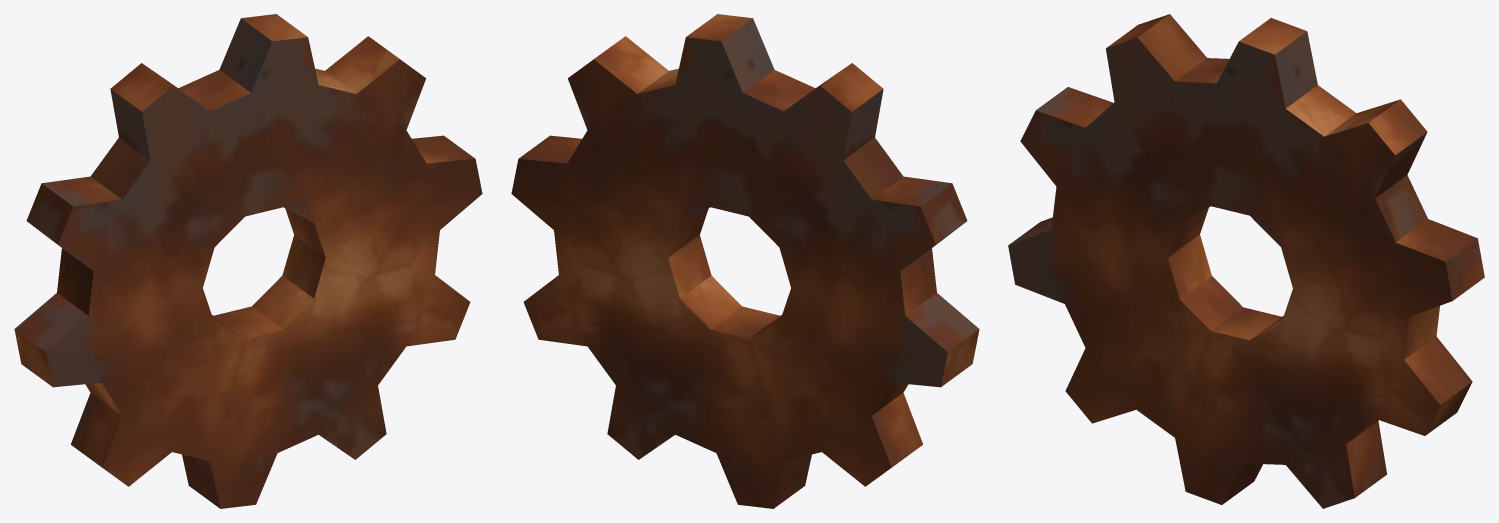
File: Gear_Small.glb
3 renders of one model, left to right at view 1: azimuth 30°, elevation 25°; view 2: azimuth 150°, elevation 25°; view 3: azimuth 330°, elevation 25°, orthographic.
Visible parts, largest first — view 1: Gear_Small; view 2: Gear_Small; view 3: Gear_Small.
Part boxes in pixels (box(x1,y1,x2,y2)): Gear_Small: box(14, 14, 482, 508); Gear_Small: box(511, 14, 979, 508); Gear_Small: box(1008, 14, 1484, 508).
Bounding box in the file's own units: 0.2385 × 0.2398 × 0.03.
Materials: 1 (1 with a texture image).
